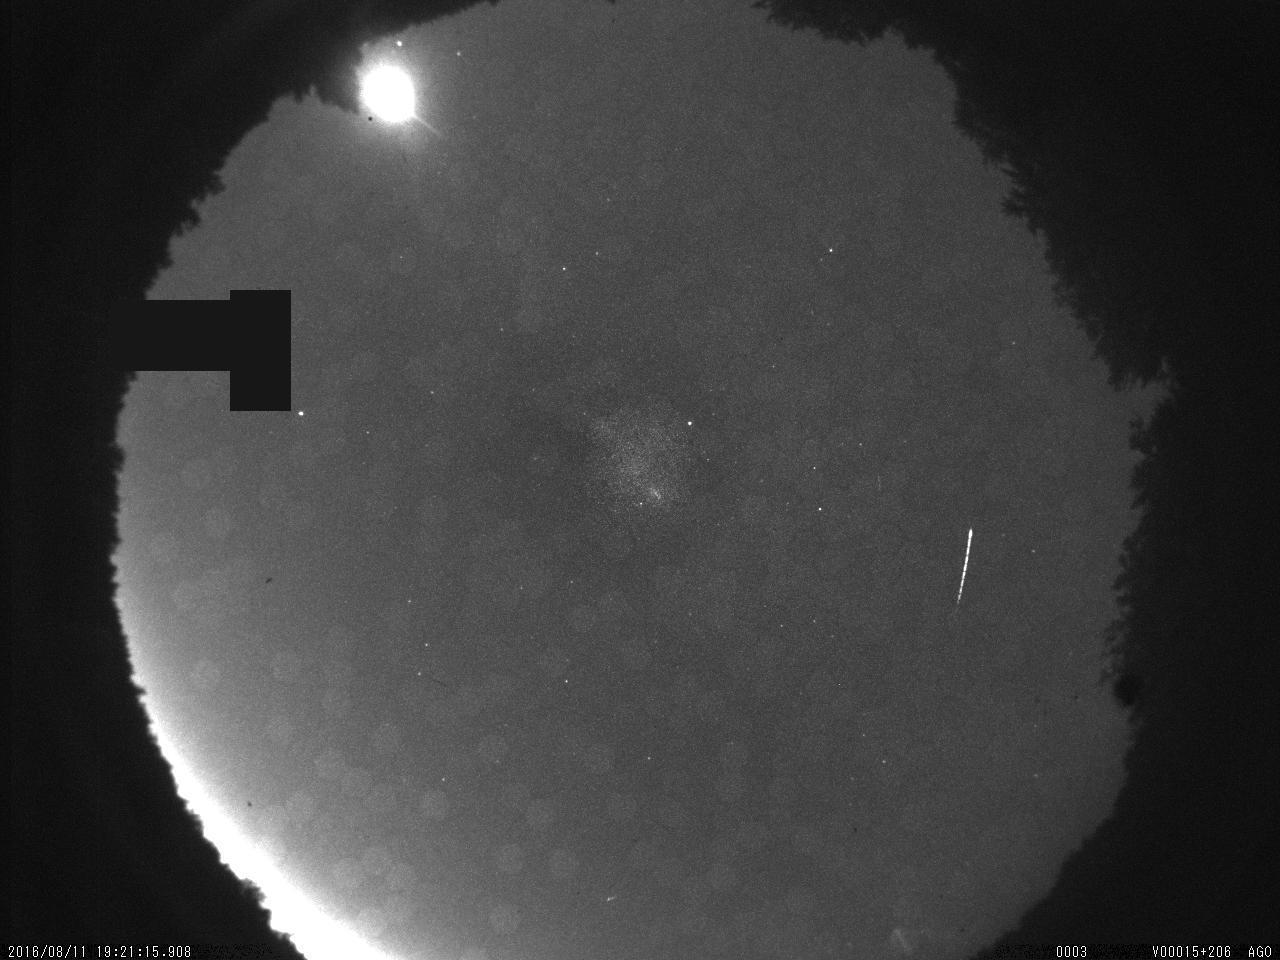meteor: (917, 503, 1027, 665)
